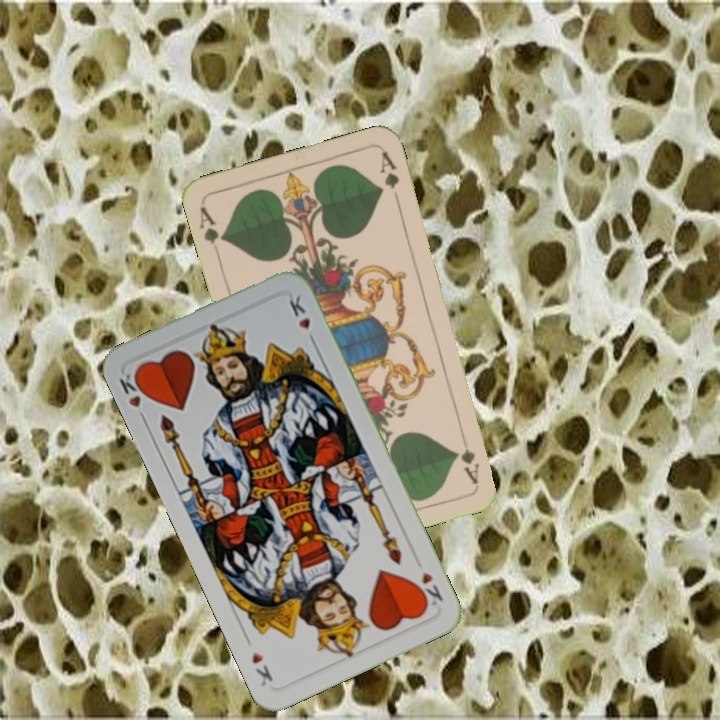GA: (195, 202, 228, 259), (456, 429, 482, 487)
HK: (115, 367, 151, 425), (411, 567, 446, 610)
